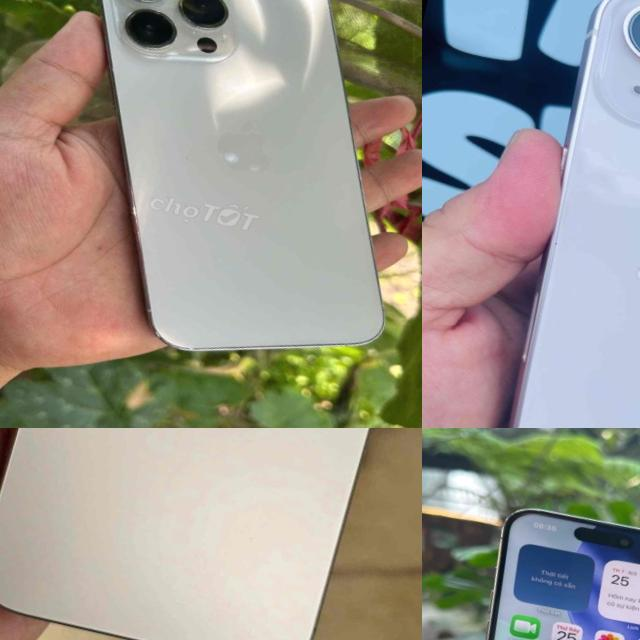gen_12_13: (469, 0, 640, 428)
gen_14: (13, 0, 422, 391)
gen_15: (422, 481, 640, 640)
gen_16: (0, 428, 369, 640)
